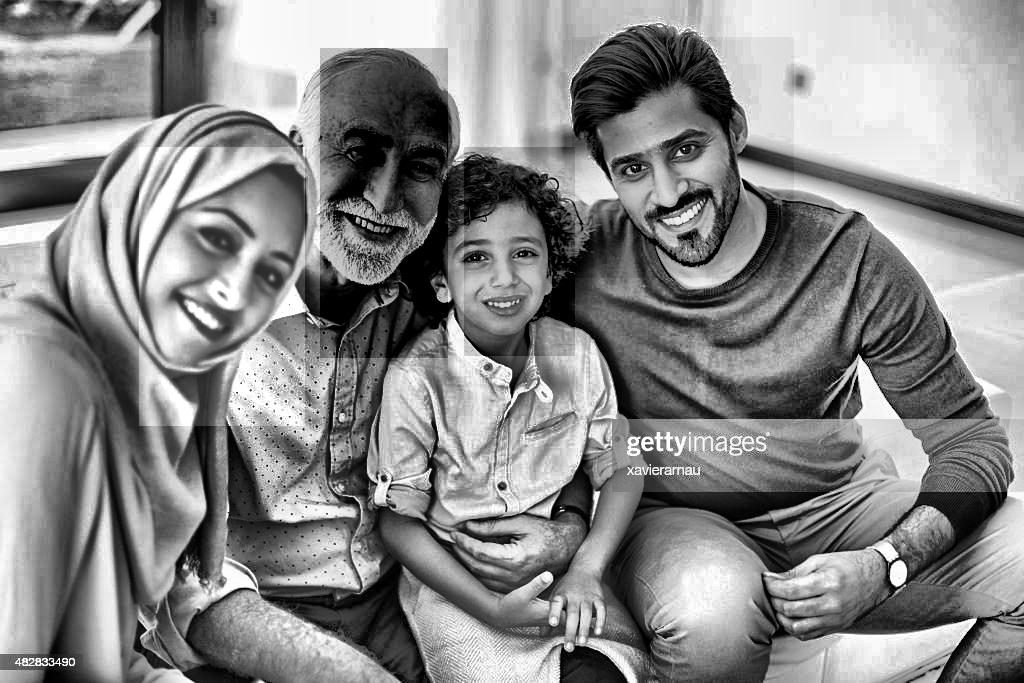happy: (140, 147, 306, 426)
